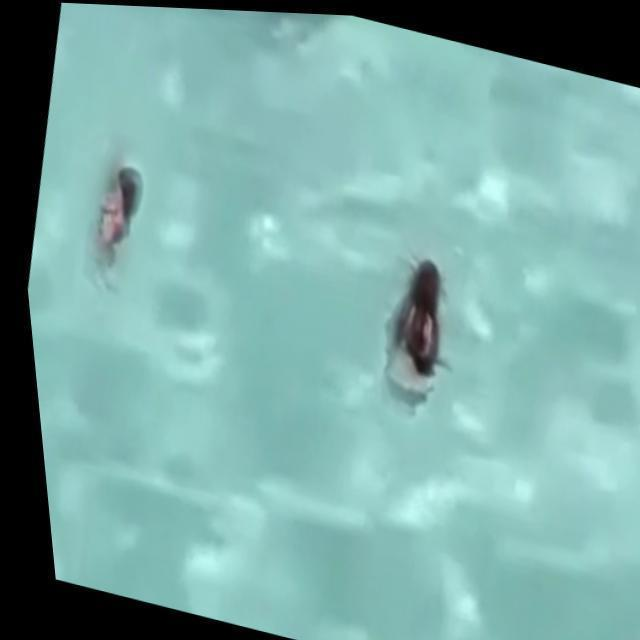swimming: (357, 232, 467, 413), (73, 153, 179, 336)
